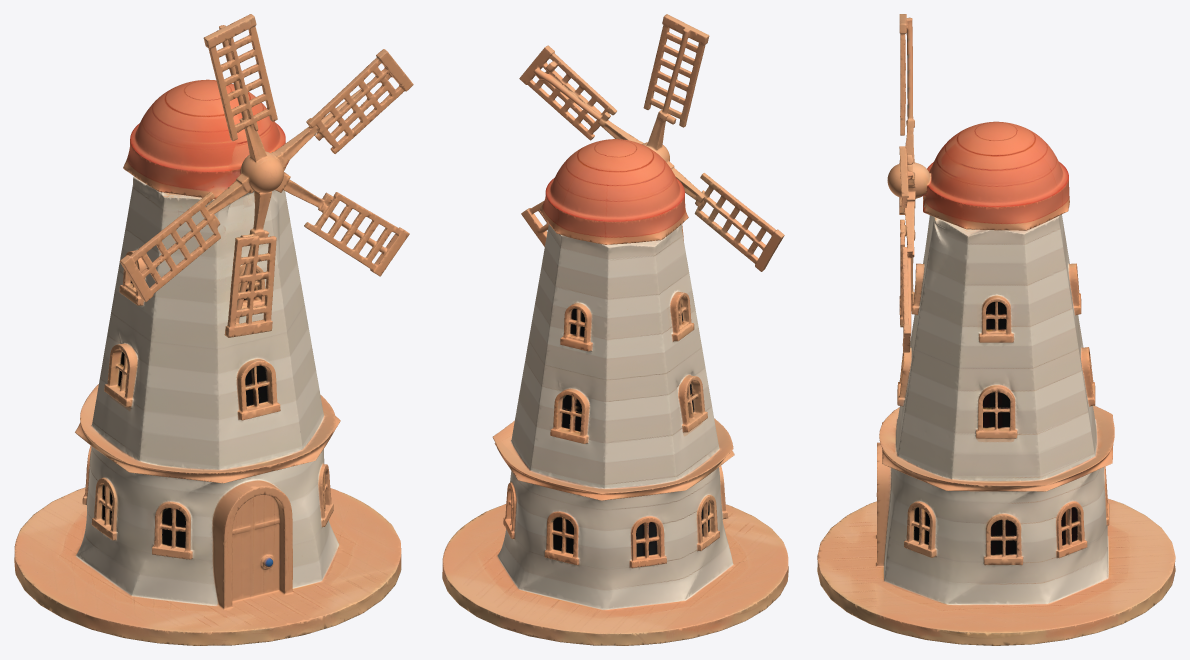
Rendered from Model_Mill.fbx.
3 views of the same model, side by side, from view 1: azimuth 30°, elevation 25°; view 2: azimuth 150°, elevation 25°; view 3: azimuth 270°, elevation 25° (orthographic). The views are drawn at different scales.
Parts seen in each view (by area): view 1: Mesh_0; view 2: Mesh_0; view 3: Mesh_0.
Boxes of the visible parts, bbox=[...] form: Mesh_0: bbox=[14, 14, 413, 645]; Mesh_0: bbox=[442, 14, 788, 645]; Mesh_0: bbox=[817, 14, 1175, 645].
Size of the model in its own units: 1.14 by 1.9 by 1.13.
1 material, 1 textured.
